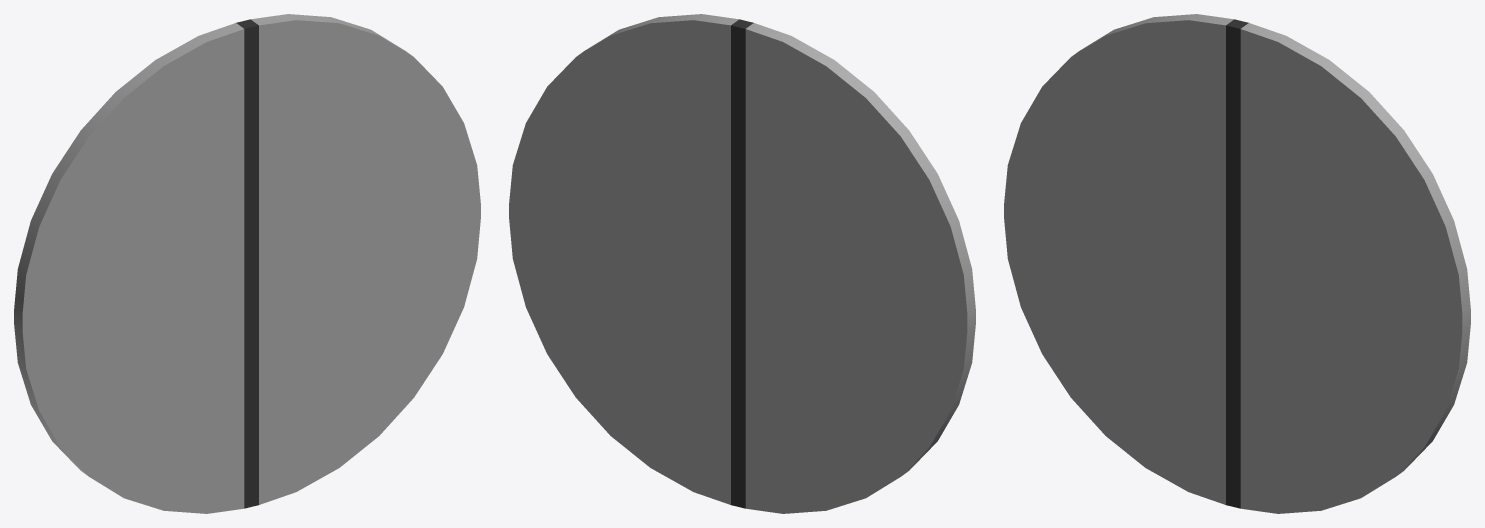
Rendered from house_door.glb.
3 renders of one model, left to right at view 1: azimuth 30°, elevation 25°; view 2: azimuth 150°, elevation 25°; view 3: azimuth 330°, elevation 25°, orthographic.
Visible parts, largest first — view 1: House_Door_Sphere.004; view 2: House_Door_Sphere.004; view 3: House_Door_Sphere.004.
Part boxes in pixels (x1,y1,x2,y2): House_Door_Sphere.004: (14, 14, 480, 513); House_Door_Sphere.004: (509, 14, 975, 513); House_Door_Sphere.004: (1004, 14, 1470, 513).
Bounding box in the file's own units: 2.03 × 2.03 × 0.0642.
1 material, 1 textured.
